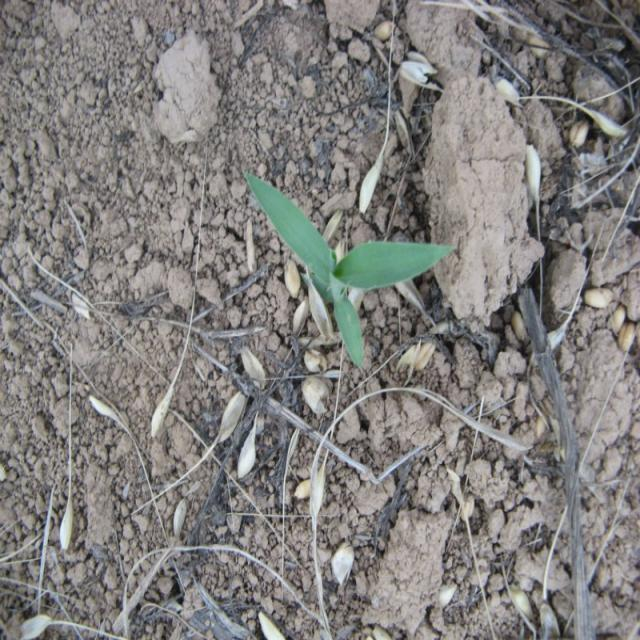bg: (243, 171, 459, 373)
